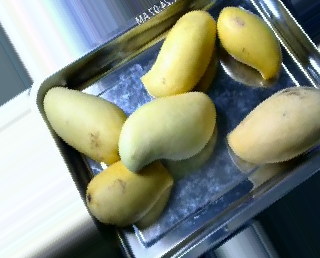Mango: (223, 87, 320, 164), (118, 91, 214, 167), (142, 9, 218, 101), (42, 86, 131, 162), (84, 156, 172, 228), (216, 4, 285, 82)
